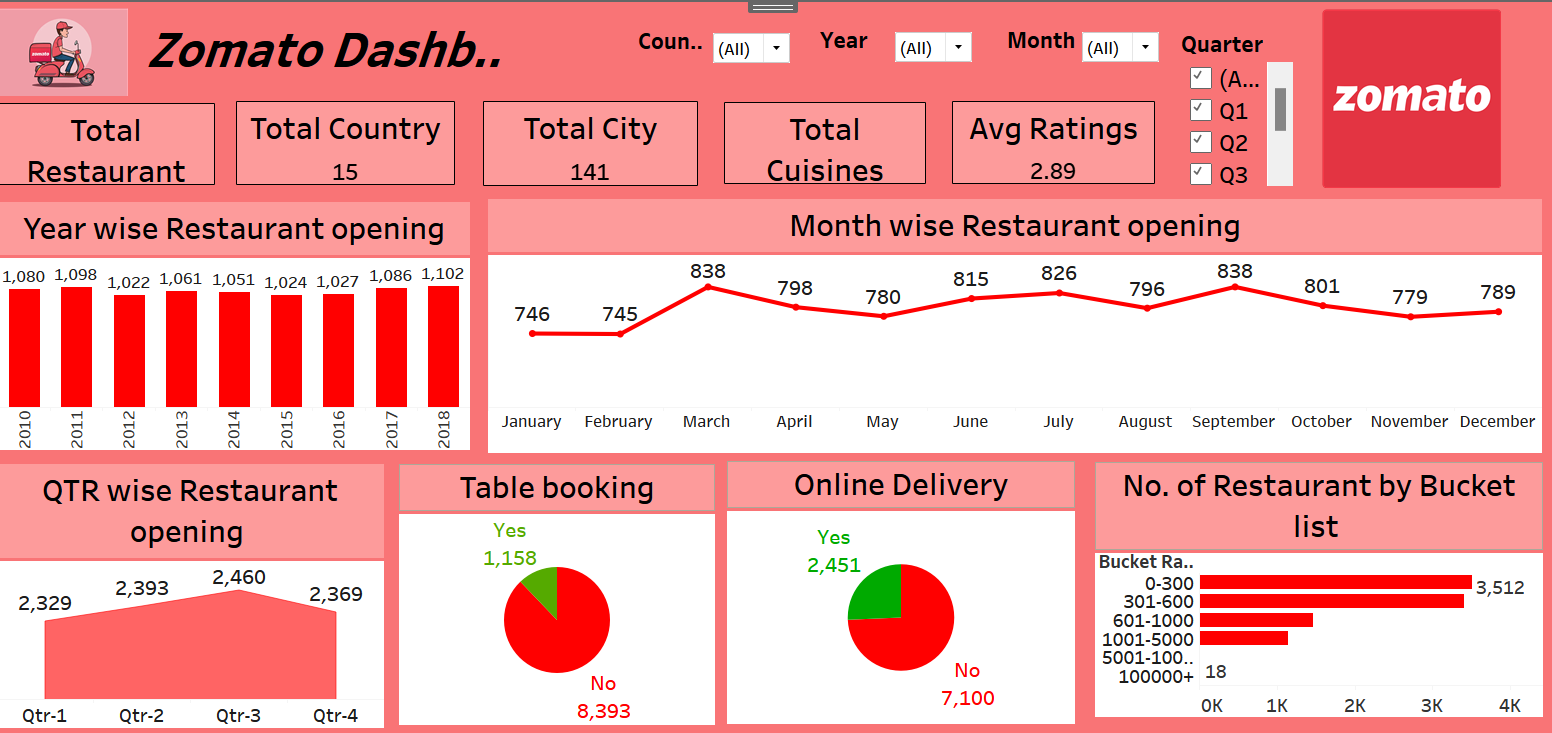

The dashboard page shown, as its layout file describes it:
{"tool":"tableau","page":{"name":"Dashboard 1","canvas":[1000,1000],"units":"permille","ordinal":0},"visuals":[{"type":"text","box":[9.7,16.5,975.9,981.2]},{"type":"image","param":"Image/Zomato pic.png","box":[12.7,23.5,85.1,118.8]},{"type":"image","param":"Image/Zomato_logo.png","box":[839.5,25.9,124.9,240]},{"type":"text","box":[104.4,45.9,226.9,63.5]},{"type":"filter","title":"Avg Ratings","param":"[federated.0ua935q1muo95y1bofdws0zzmao1].[qr:Date:ok]","box":[752,50.6,70,211.8]},{"type":"filter","title":"Avg Ratings","param":"[federated.0ua935q1muo95y1bofdws0zzmao1].[yr:Date:ok]","box":[526.9,52.9,96.6,62.4]},{"type":"filter","title":"Avg Ratings","param":"[federated.0ua935q1muo95y1bofdws0zzmao1].[mn:Date:ok]","box":[643.3,52.9,96.6,62.4]},{"type":"filter","title":"Avg Ratings","param":"[federated.0ua935q1muo95y1bofdws0zzmao1].[none:Country name:nk]","box":[413.4,54.1,96.6,62.4]},{"type":"worksheet","title":"Total Country","mark":"Automatic","box":[163,148.2,136.4,112.9]},{"type":"worksheet","title":"Total City","mark":"Automatic","box":[316.8,148.2,134,114.1]},{"type":"worksheet","title":"Avg Ratings","mark":"Automatic","box":[608.9,149.4,126.7,110.6]},{"type":"worksheet","title":"Total Cuisines","mark":"Automatic","box":[467.1,150.6,126.1,109.4]},{"type":"worksheet","title":"Total Restaurant","mark":"Automatic","box":[13.9,151.8,135.8,109.4]},{"type":"worksheet","title":"Month wise Restaurant opening","mark":"Line","rows":["RestaurantID"],"cols":["Month Name"],"box":[319.9,280,657.2,340]},{"type":"worksheet","title":"Year wise Restaurant opening","mark":"Bar","rows":["RestaurantID"],"cols":["Year"],"box":[14.5,283.5,294.5,332.9]},{"type":"worksheet","title":"Online Delivery","mark":"Pie","box":[468.9,631.8,216.7,352.9]},{"type":"worksheet","title":"No. of Restaurant by Bucket list ","mark":"Automatic","rows":["bucket range"],"cols":["RestaurantID"],"box":[698.2,632.9,279.4,342.4]},{"type":"worksheet","title":"QTR wise Restaurant opening ","mark":"Area","rows":["RestaurantID"],"cols":["Quarter"],"box":[13.3,635.3,242,354.1]},{"type":"worksheet","title":"Table booking","mark":"Pie","box":[264.3,635.3,196.7,350.6]}]}

Visuals, with their boxes on the dashboard's canvas, which has no fixed pixel size, in thousandths of its width and height (x1, y1, x2, y2). These are canvas units, not pixel positions in the 1552x733 screenshot, which may show the page scaled, cropped or inside an application window:
text: pyautogui.locateOnScreen(10, 16, 986, 998)
image: pyautogui.locateOnScreen(13, 24, 98, 142)
image: pyautogui.locateOnScreen(840, 26, 964, 266)
text: pyautogui.locateOnScreen(104, 46, 331, 109)
"Avg Ratings" filter: pyautogui.locateOnScreen(752, 51, 822, 262)
"Avg Ratings" filter: pyautogui.locateOnScreen(527, 53, 624, 115)
"Avg Ratings" filter: pyautogui.locateOnScreen(643, 53, 740, 115)
"Avg Ratings" filter: pyautogui.locateOnScreen(413, 54, 510, 116)
"Total Country" worksheet: pyautogui.locateOnScreen(163, 148, 299, 261)
"Total City" worksheet: pyautogui.locateOnScreen(317, 148, 451, 262)
"Avg Ratings" worksheet: pyautogui.locateOnScreen(609, 149, 736, 260)
"Total Cuisines" worksheet: pyautogui.locateOnScreen(467, 151, 593, 260)
"Total Restaurant" worksheet: pyautogui.locateOnScreen(14, 152, 150, 261)
"Month wise Restaurant opening" worksheet (Line marks): pyautogui.locateOnScreen(320, 280, 977, 620)
"Year wise Restaurant opening" worksheet (Bar marks): pyautogui.locateOnScreen(14, 284, 309, 616)
"Online Delivery" worksheet (Pie marks): pyautogui.locateOnScreen(469, 632, 686, 985)
"No. of Restaurant by Bucket list " worksheet: pyautogui.locateOnScreen(698, 633, 978, 975)
"QTR wise Restaurant opening " worksheet (Area marks): pyautogui.locateOnScreen(13, 635, 255, 989)
"Table booking" worksheet (Pie marks): pyautogui.locateOnScreen(264, 635, 461, 986)
